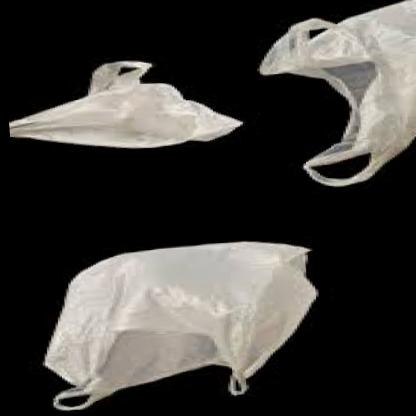Plastic: (29, 210, 344, 410), (238, 0, 416, 196), (6, 46, 249, 176)
